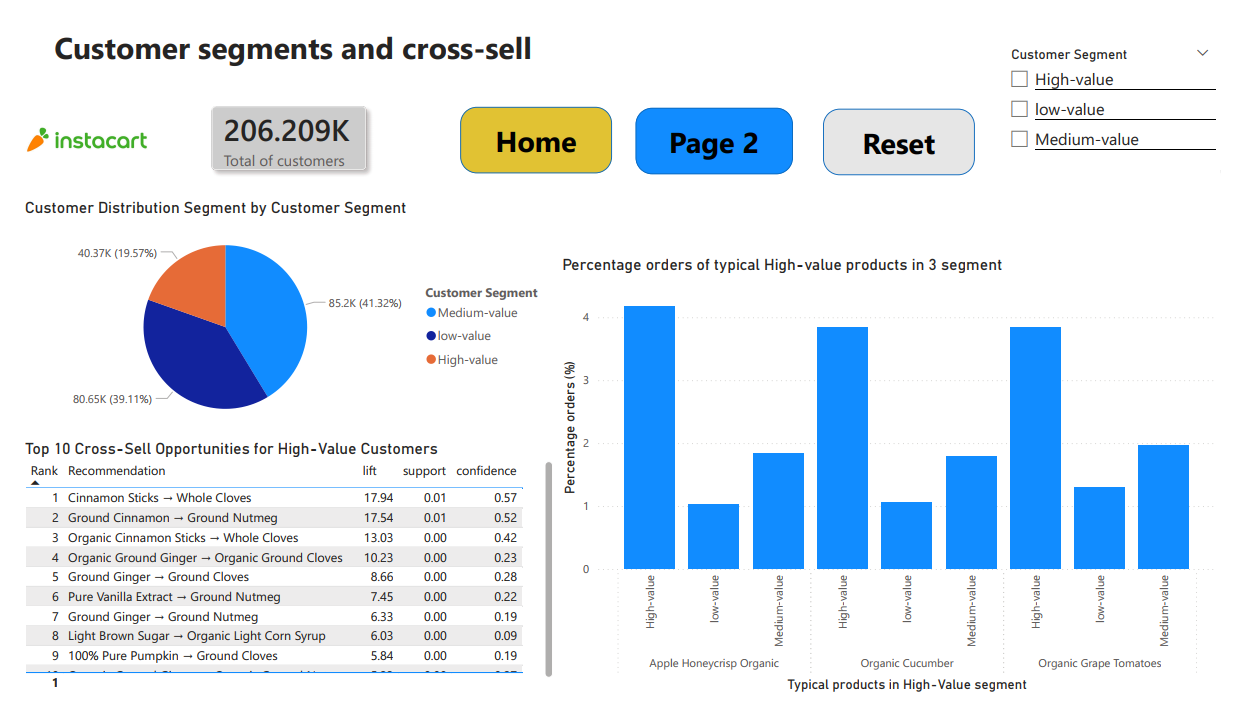

The dashboard page shown, as its layout file describes it:
{"tool":"powerbi","page":{"name":"Page 1","canvas":[1280,720],"ordinal":1},"visuals":[{"type":"columnChart","title":"Percentage orders of typical High-value products in 3 segment","fields":{"Y":["Sum(comparing_high_exclusive_pd.pct_orders)"],"Category":["comparing_high_exclusive_pd.product_name","comparing_high_exclusive_pd.customer_segment"]},"box":[573.5,248.8,706.6,471.5],"z":0},{"type":"cardVisual","fields":{"Data":["CountNonNull(customer_segment.user_id)"]},"box":[175.4,62.2,222.7,125.6],"z":1000},{"type":"pieChart","fields":{"Category":["customer_segment.customer_segment"],"Y":["CountNonNull(customer_segment.customer_segment)"]},"box":[0,187.8,573.5,257.5],"z":2000},{"type":"textbox","box":[0,0,573.5,72.1],"z":3000},{"type":"slicer","fields":{"Values":["customer_segment.customer_segment"]},"box":[1043.7,22.4,236.4,135.6],"z":4000},{"type":"shape","title":"Customer segments and cross-sell","box":[469,90.8,161.7,70.9],"z":5000},{"type":"shape","title":"Customer segments and cross-sell","box":[655.6,92.1,167.9,70.9],"z":6000},{"type":"tableEx","title":"Top 10 Cross-Sell Opportunities for High-Value Customers","fields":{"Values":["tops_q2.Index","tops_q2.goi_y","tops_q2.lift","tops_q2.support","tops_q2.confidence"]},"box":[0,445.3,573.5,274.9],"z":7000},{"type":"image","box":[0,72.1,141.8,107],"z":8000},{"type":"shape","title":"Customer segments and cross-sell","box":[855.8,93.3,161.7,70.9],"z":9000}]}

Visuals, with their boxes in screenshot pixels (x1, y1, x2, y2), scaled from the page's 1280x720 canvas onto the 1242x717 screenshot:
"Percentage orders of typical High-value products in 3 segment" columnChart: bbox=(556, 248, 1241, 716)
cardVisual - CountNonNull(customer_segment.user_id): bbox=(170, 62, 386, 187)
pieChart - customer_segment.customer_segment x CountNonNull(customer_segment.customer_segment): bbox=(0, 187, 556, 443)
textbox: bbox=(0, 0, 556, 72)
slicer - customer_segment.customer_segment: bbox=(1013, 22, 1241, 157)
"Customer segments and cross-sell" shape: bbox=(455, 90, 612, 161)
"Customer segments and cross-sell" shape: bbox=(636, 92, 799, 162)
"Top 10 Cross-Sell Opportunities for High-Value Customers" tableEx: bbox=(0, 443, 556, 716)
image: bbox=(0, 72, 138, 178)
"Customer segments and cross-sell" shape: bbox=(830, 93, 987, 164)
